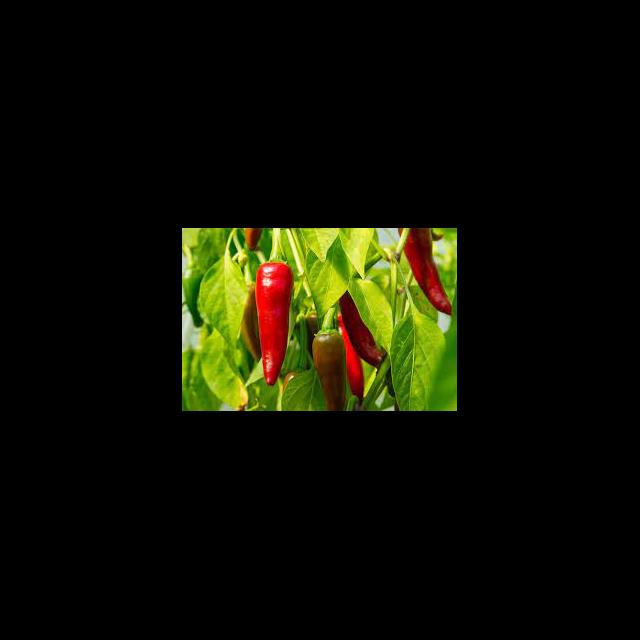chili_pepper: (254, 262, 294, 386), (404, 228, 452, 316), (314, 304, 346, 412), (339, 292, 385, 366), (241, 282, 263, 366)
